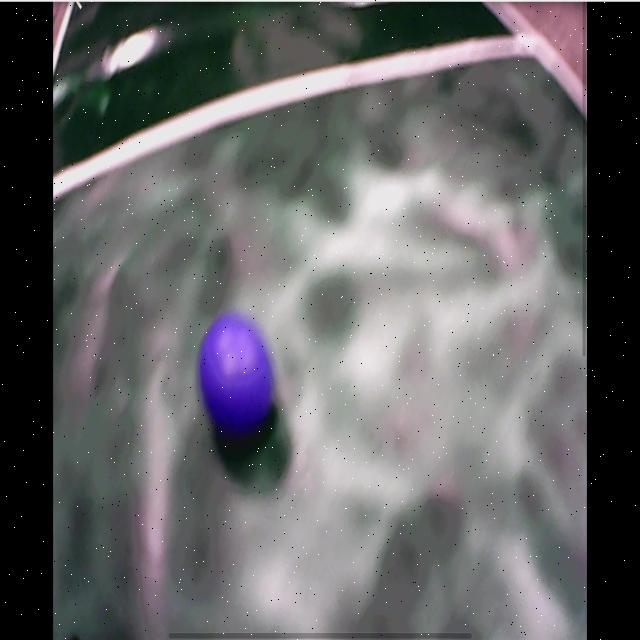ball: (200, 319, 272, 432)
